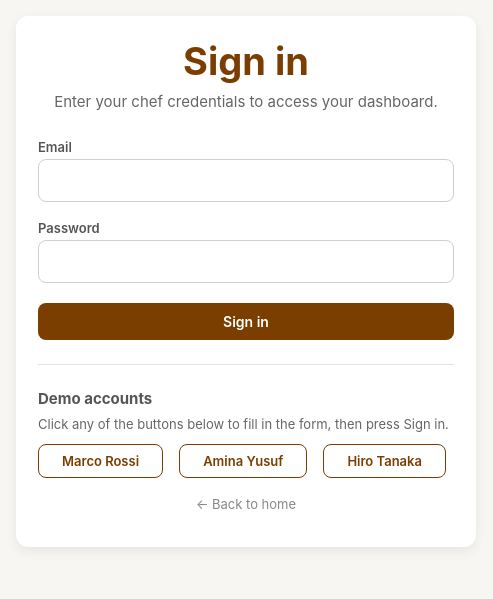
Scenario: shows an error message when the server returns 401
The image size is (493, 599).
Type "bad@test.com" into the field labelled "Email" at [246, 180], box [38, 159, 454, 202]
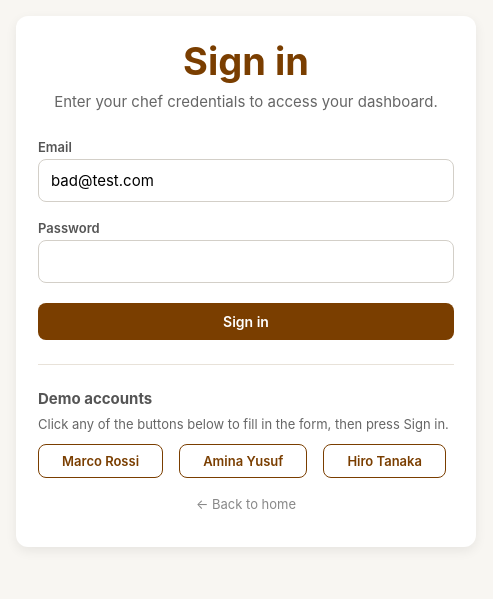
Type "wrong" into the password field labelled "Password" at [246, 262], box [38, 240, 454, 283]
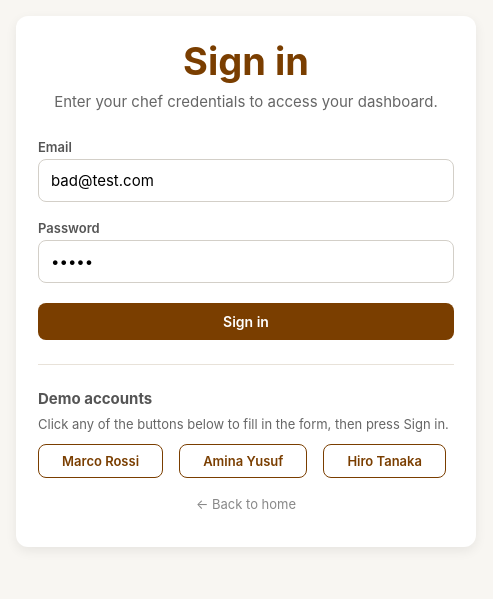
Click the button "Sign in" at [246, 322], box [38, 303, 454, 340]
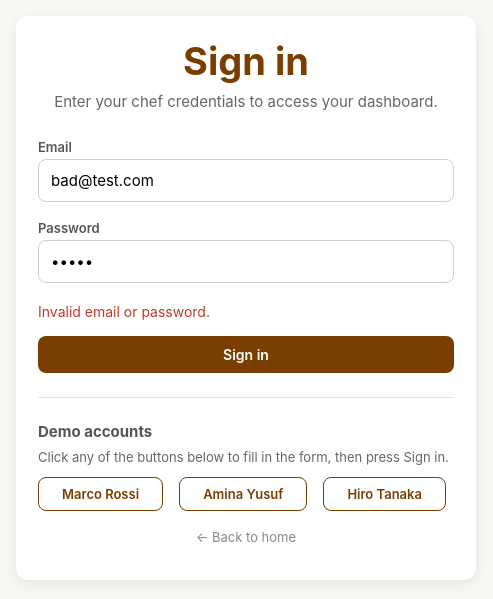
Now the text "Invalid email or password." is shown, box [38, 303, 210, 320]
